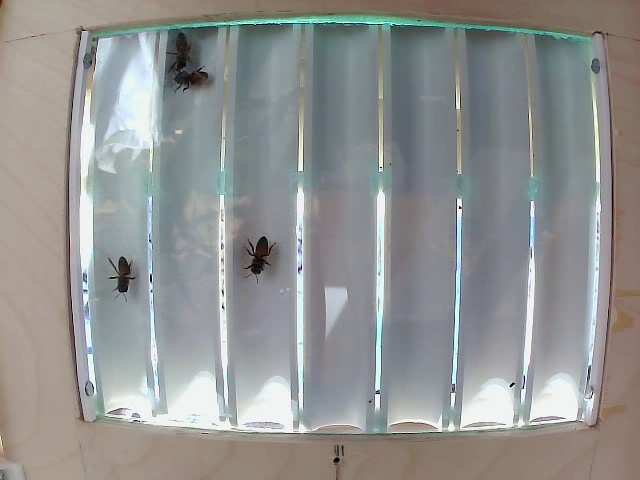bee: (234, 231, 285, 288), (179, 41, 218, 99), (92, 256, 153, 293)
